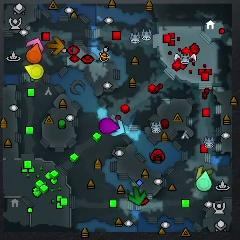p2: (196, 171, 212, 191)
p3: (99, 118, 119, 134)
p4: (24, 64, 44, 79)
p5: (26, 43, 41, 64)
x1: (27, 38, 44, 51)
x2: (197, 166, 213, 178)
x3: (112, 119, 126, 138)
x4: (128, 186, 146, 205)
x5: (47, 36, 64, 54)
